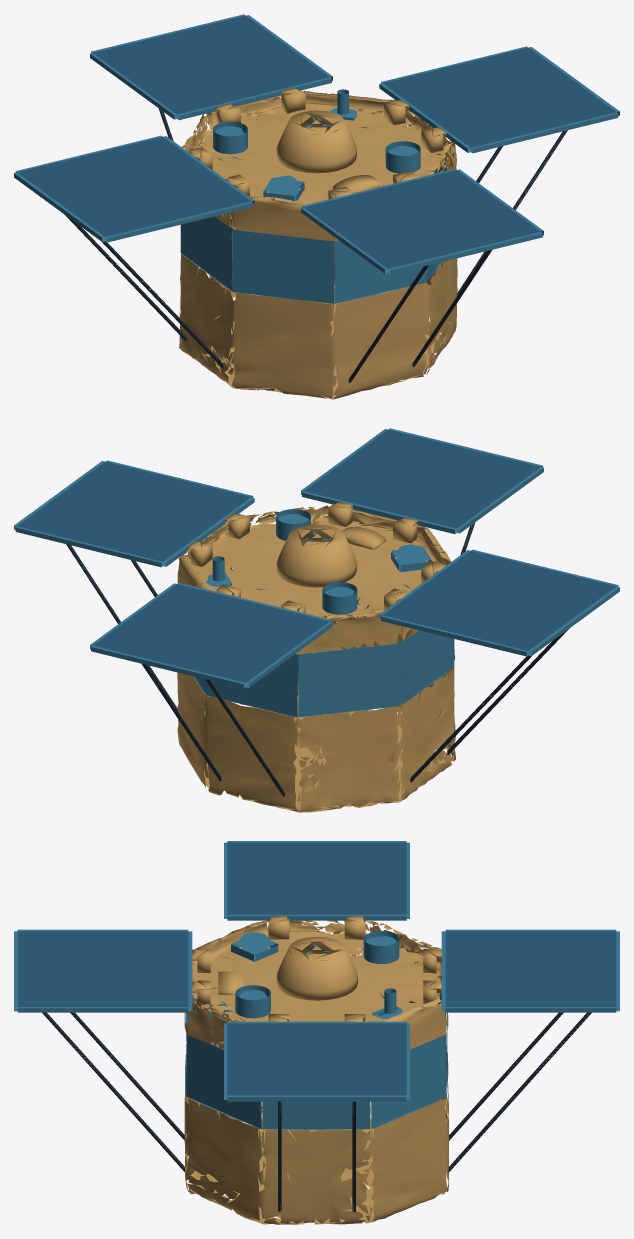
File: radar-en-vuelo.obj
3 views of the same model, one above another, from view 1: azimuth 30°, elevation 25°; view 2: azimuth 150°, elevation 25°; view 3: azimuth 270°, elevation 25° (orthographic).
Parts seen in each view (by area): view 1: radar-en-vuelo; view 2: radar-en-vuelo; view 3: radar-en-vuelo.
Boxes of the visible parts, x1=… form: radar-en-vuelo: x1=14, y1=14, x2=619, y2=399; radar-en-vuelo: x1=14, y1=428, x2=619, y2=812; radar-en-vuelo: x1=14, y1=841, x2=619, y2=1224.
Size of the model in its own units: 0.62 by 0.2529 by 0.62.
